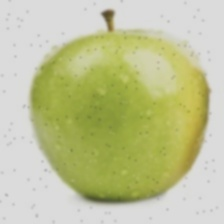apple: (34, 4, 176, 203)
